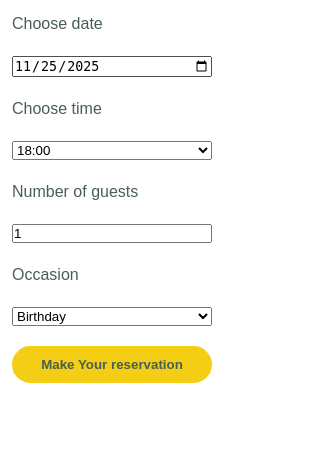
BookingForm › shows error message for NaN guests
This screenshot has width=332, height=466.
Clear the number field labelled "Number of guests" at (112, 234), box [12,224,212,243]
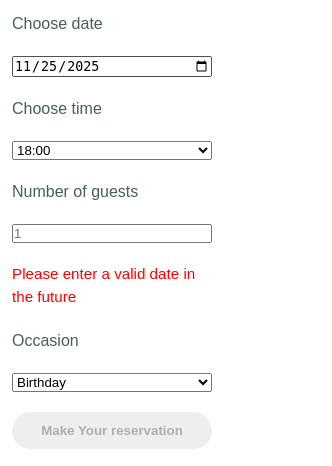
Now the text "Please enter a valid date in the future" is shown, box [12,263,212,309]
